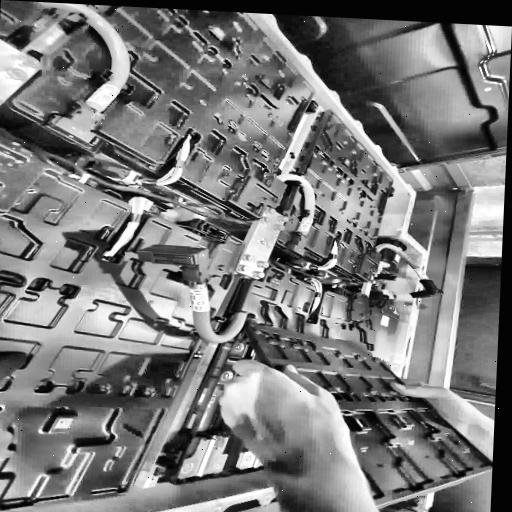high_volt_cable: (1, 0, 133, 142), (135, 241, 268, 345), (373, 241, 443, 299), (274, 172, 319, 258)
low_volt_cable: (94, 132, 196, 266), (293, 238, 343, 317)
nut: (2, 66, 29, 82), (18, 57, 39, 70), (237, 265, 250, 273), (278, 215, 290, 223), (243, 254, 255, 262), (256, 261, 268, 269), (253, 271, 265, 279), (266, 207, 276, 216), (262, 217, 273, 224), (275, 225, 285, 231)
